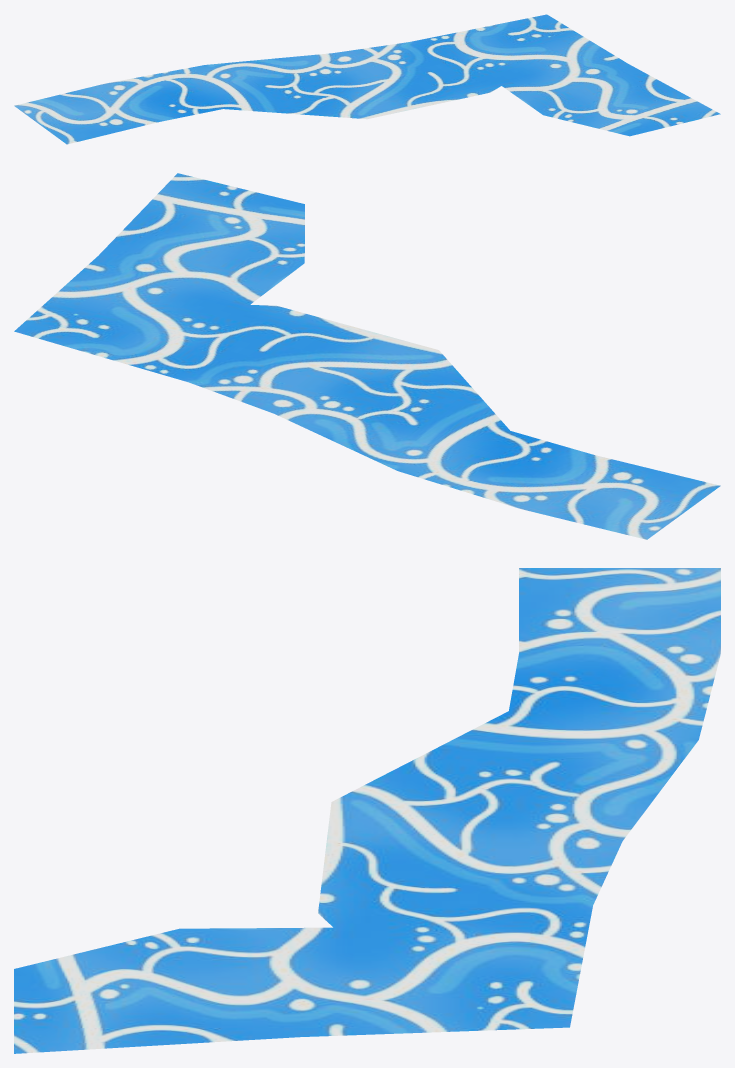
The model's file is Water.FBX.
3 renders of one model, top to bottom at view 1: azimuth 30°, elevation 25°; view 2: azimuth 150°, elevation 25°; view 3: azimuth 270°, elevation 25°, orthographic. The views are drawn at different scales.
Visible parts, largest first — view 1: Water; view 2: Water; view 3: Water.
Boxes of the visible parts, left/top/right/bottom form: Water: left=14, top=14, right=720, bottom=144; Water: left=14, top=173, right=720, bottom=539; Water: left=14, top=568, right=720, bottom=1053.
Bounding box in the file's own units: 2789 × 1715 × 0.000279.
